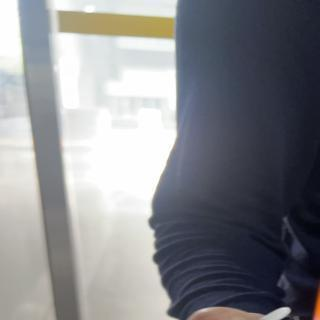fire: (310, 265, 320, 320)
